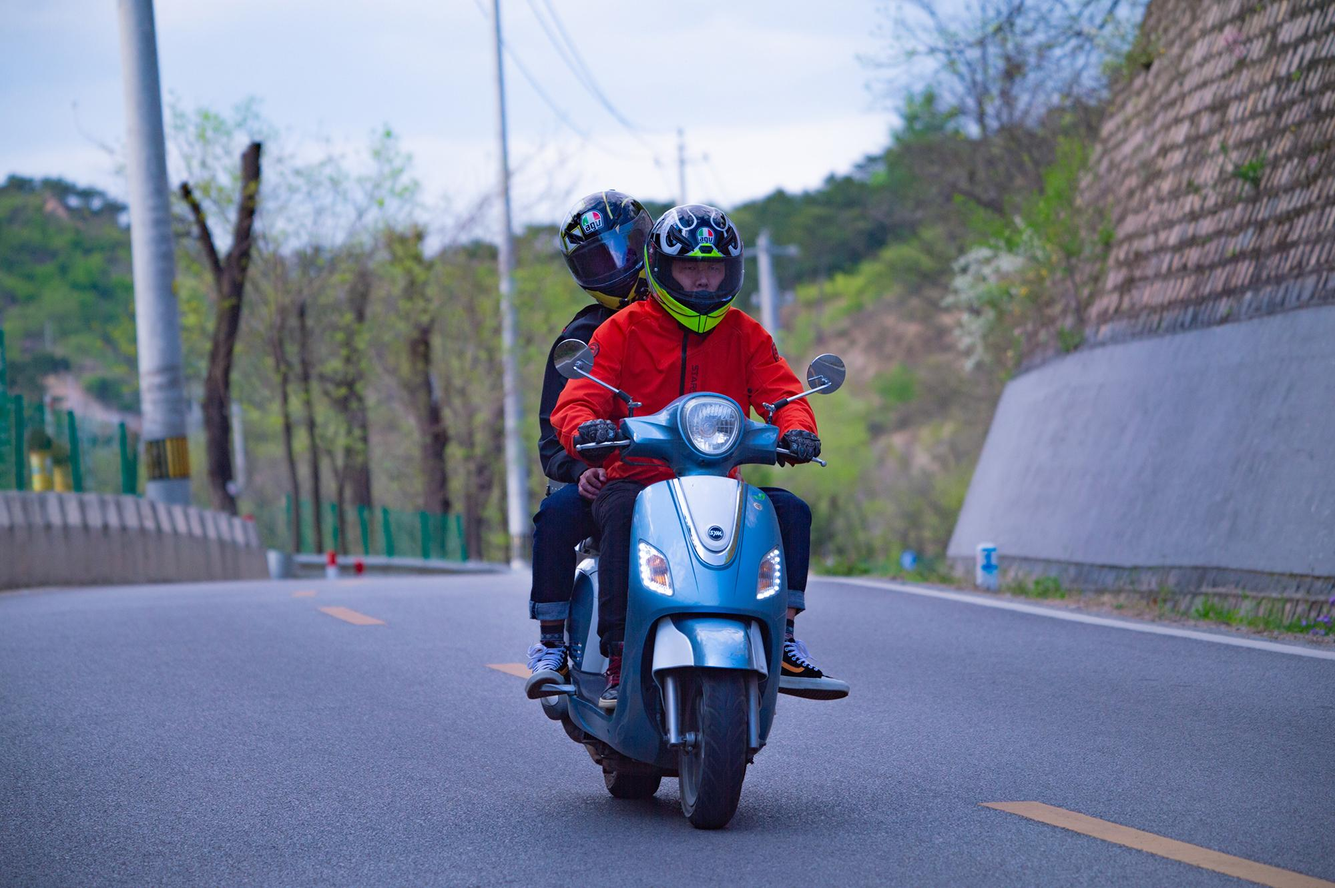helmet: (643, 202, 745, 339), (558, 188, 660, 317)
